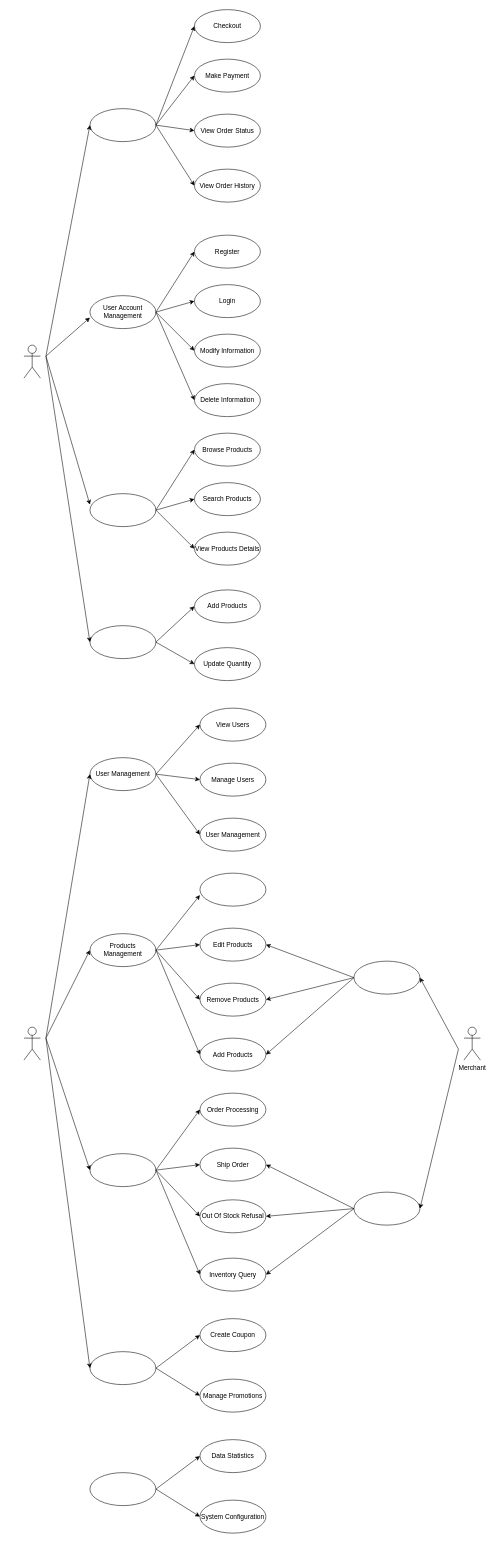
This 496x1543 diagram has some shape labels left out. The shapes that lost their labels are listed below. From the top down, each one's box as (x1, y1, x2, y2) in pixels, then its label:
(89, 108, 156, 142): Order Process
(23, 345, 40, 378): Customer
(89, 493, 156, 527): Product Browsing & Search
(89, 625, 156, 659): Shopping Cart Management
(199, 873, 266, 906): Manage Products Classification
(353, 961, 420, 994): Merchant Product Management
(23, 1027, 40, 1060): Backend Admin
(89, 1153, 156, 1187): Order Management
(353, 1192, 420, 1225): Merchant Order Management
(89, 1351, 156, 1385): Market Management
(89, 1472, 156, 1506): System Management
